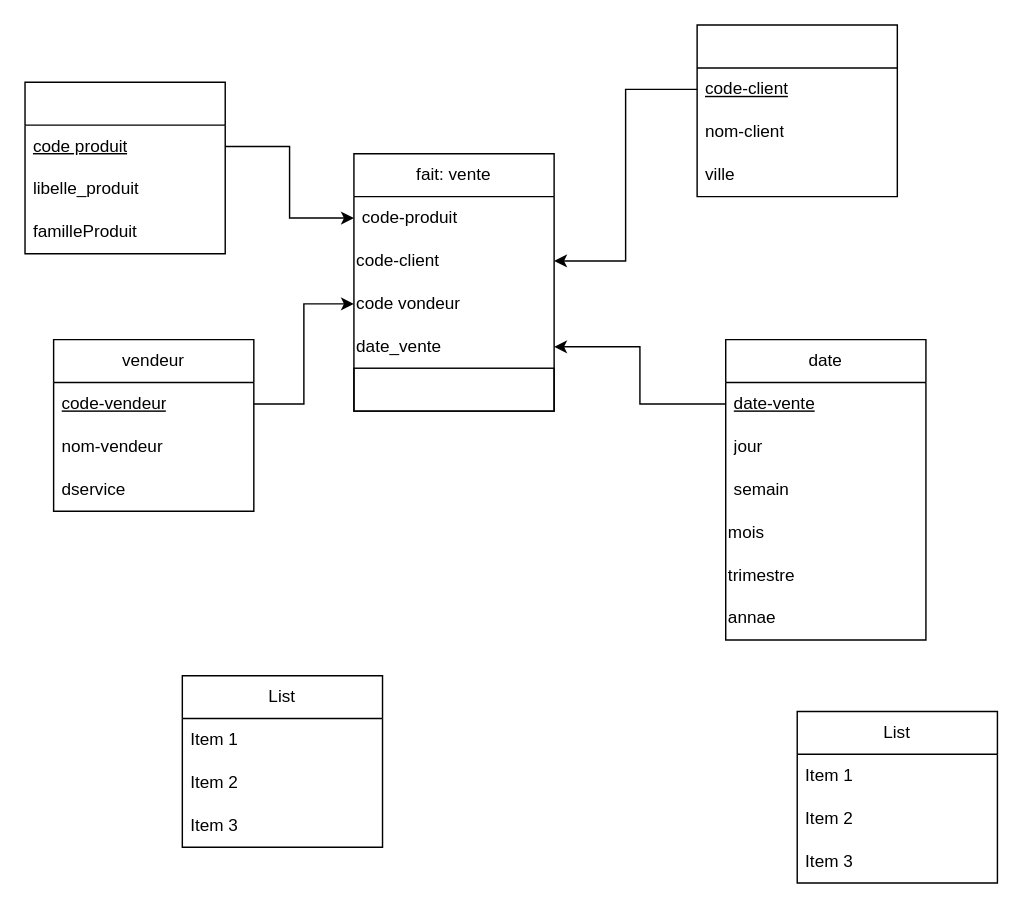
The diagram is 1022 pixels wide and 908 high, and some of its shapes have lost their labels. Each missing label, with the box of its shape:
dim:client: (696, 24, 897, 197)
dim:produit: (24, 81, 225, 254)
montant: (352, 367, 554, 411)
